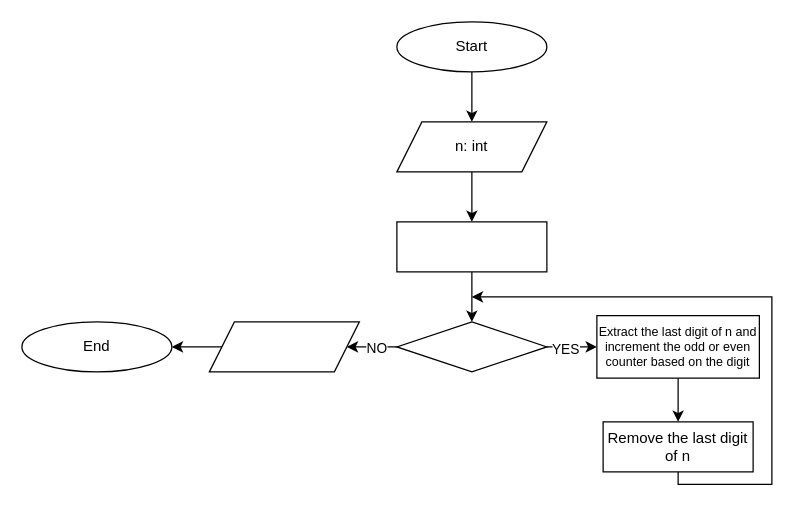
This 804x516 diagram has some shape labels left out. The box of each missing label's shape, as (x1, y1, x2, y2) in pixels:
(even, odd): tuple: (208, 321, 359, 372)
even = 0, odd = 0, n = abs(num): (396, 221, 547, 272)
n > 0: (396, 321, 547, 372)
